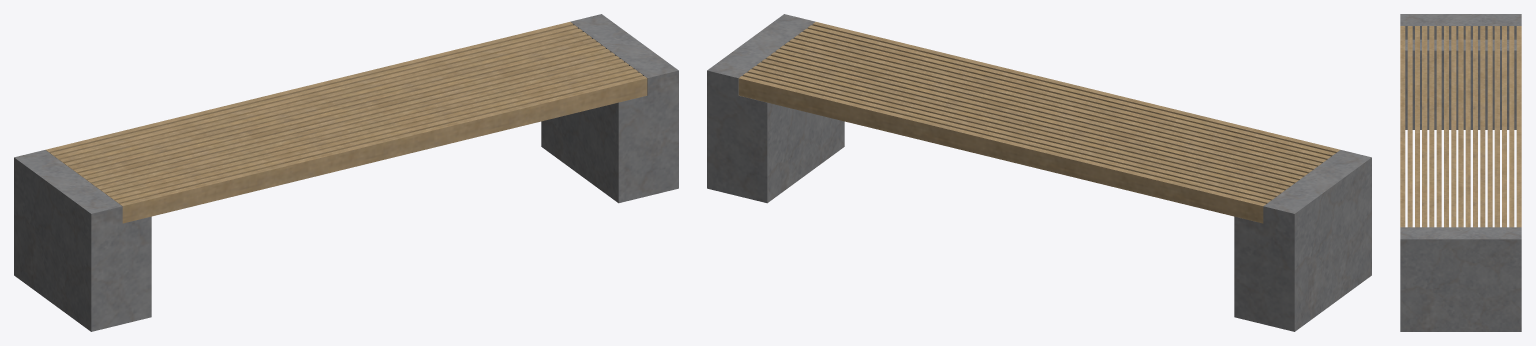
3 views of the same model, side by side, from view 1: azimuth 30°, elevation 25°; view 2: azimuth 150°, elevation 25°; view 3: azimuth 270°, elevation 25° (orthographic). The views are drawn at different scales.
Parts seen in each view (by area): view 1: Bench; view 2: Bench; view 3: Bench.
Part boxes in pixels (x1,y1,x2,y2): Bench: [14, 14, 678, 331]; Bench: [707, 14, 1371, 331]; Bench: [1400, 14, 1521, 331].
Bounding box in the file's own units: 2.24 × 0.43 × 0.51.
1 material, 1 textured.
